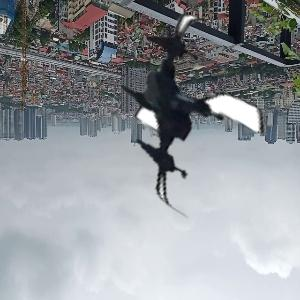drone: (93, 18, 277, 202)
